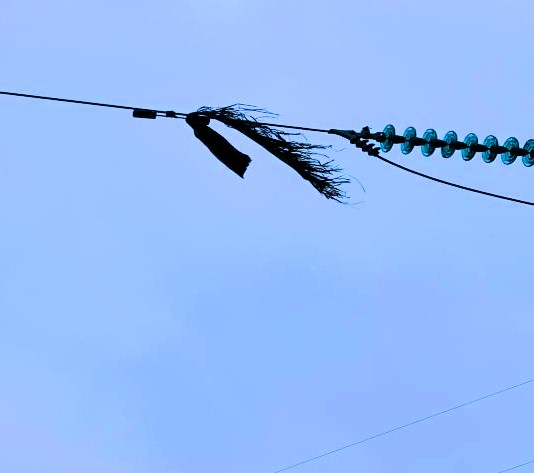wire foreign body: (179, 95, 348, 217)
